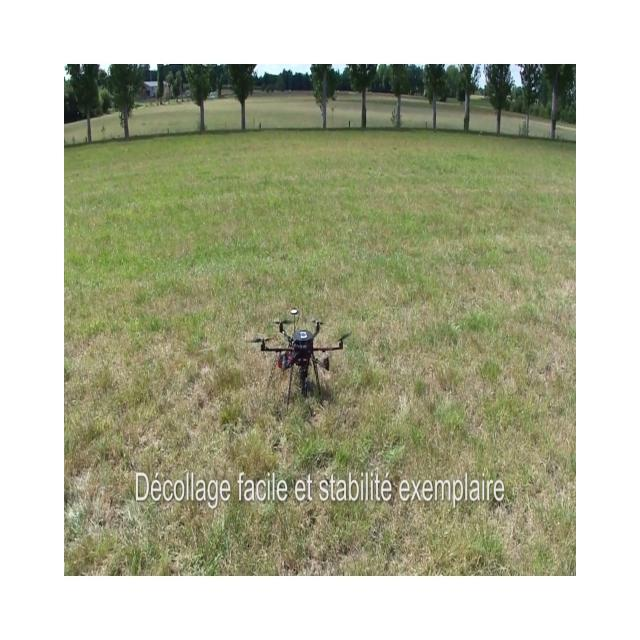drone: (246, 306, 352, 409)
